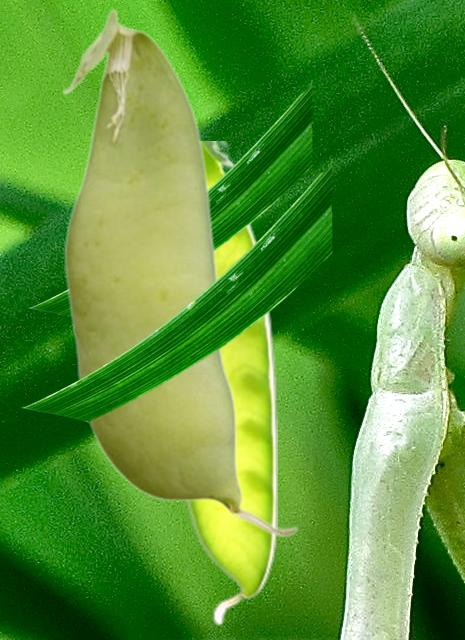pea: (61, 8, 299, 537), (182, 141, 276, 625)
